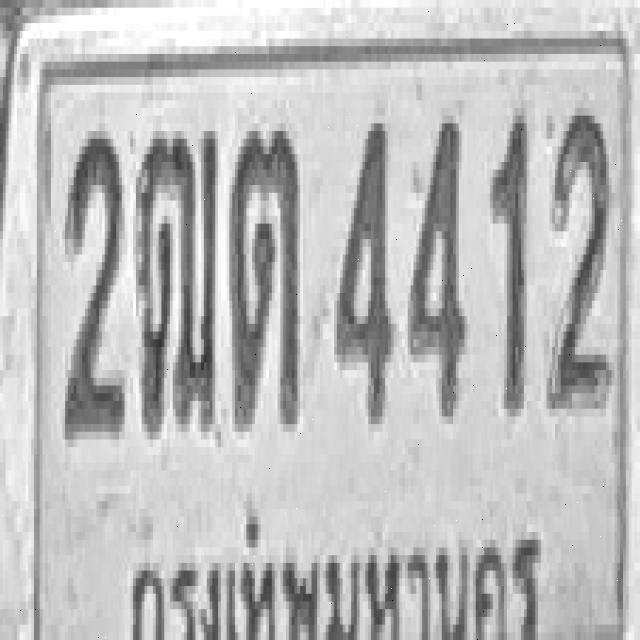1: (490, 108, 527, 416)
2: (62, 132, 124, 440), (546, 104, 608, 404)
27ThorPhuThao: (136, 124, 218, 432)
30TorTao: (230, 124, 300, 432)
4: (334, 116, 394, 424), (408, 108, 464, 416)
